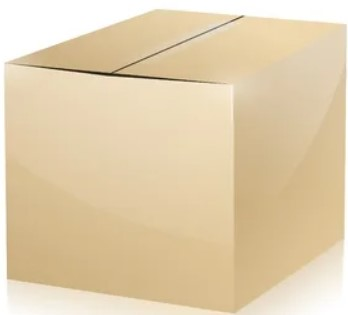stock: (4, 8, 346, 312)
